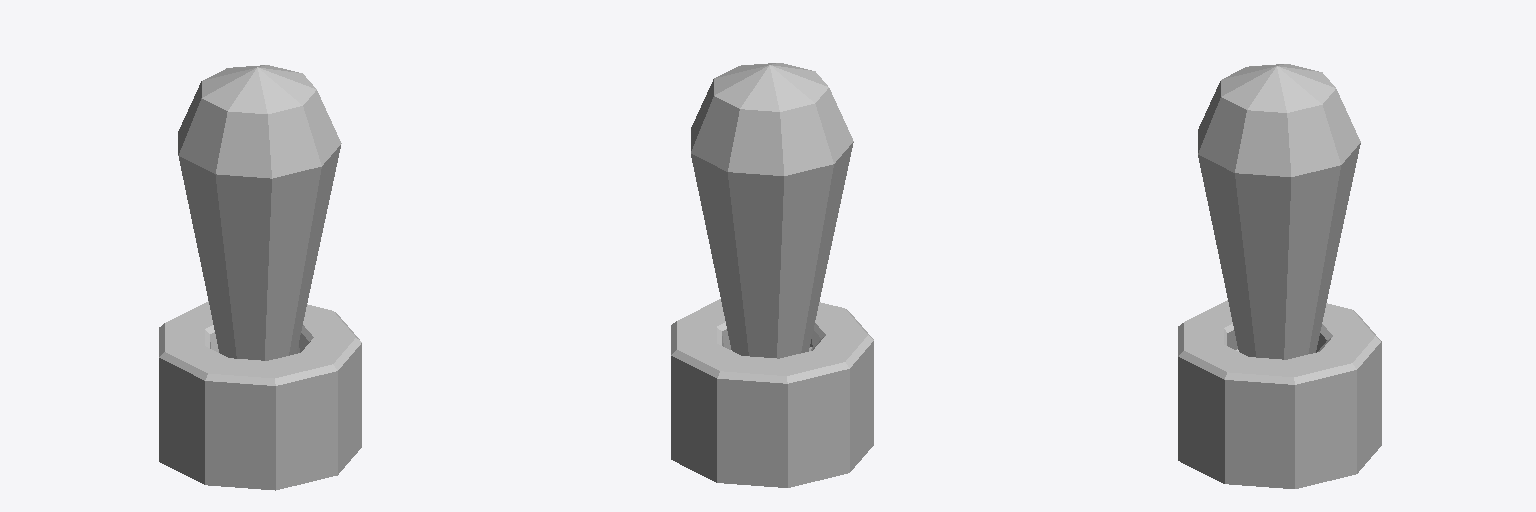
File: knoflik_1.obj
3 renders of one model, left to right at view 1: azimuth 30°, elevation 25°; view 2: azimuth 150°, elevation 25°; view 3: azimuth 270°, elevation 25°, orthographic.
Visible parts, largest first — view 1: Sphere.002, Sphere.001; view 2: Sphere.002, Sphere.001; view 3: Sphere.002, Sphere.001.
Part boxes in pixels (x1,y1,x2,y2): Sphere.002: (178,65,341,360); Sphere.001: (159,301,361,490); Sphere.002: (691,63,853,358); Sphere.001: (671,299,873,487); Sphere.002: (1198,64,1360,359); Sphere.001: (1178,300,1381,488).
Size of the model in its own units: 0.3962 by 0.805 by 0.3901.